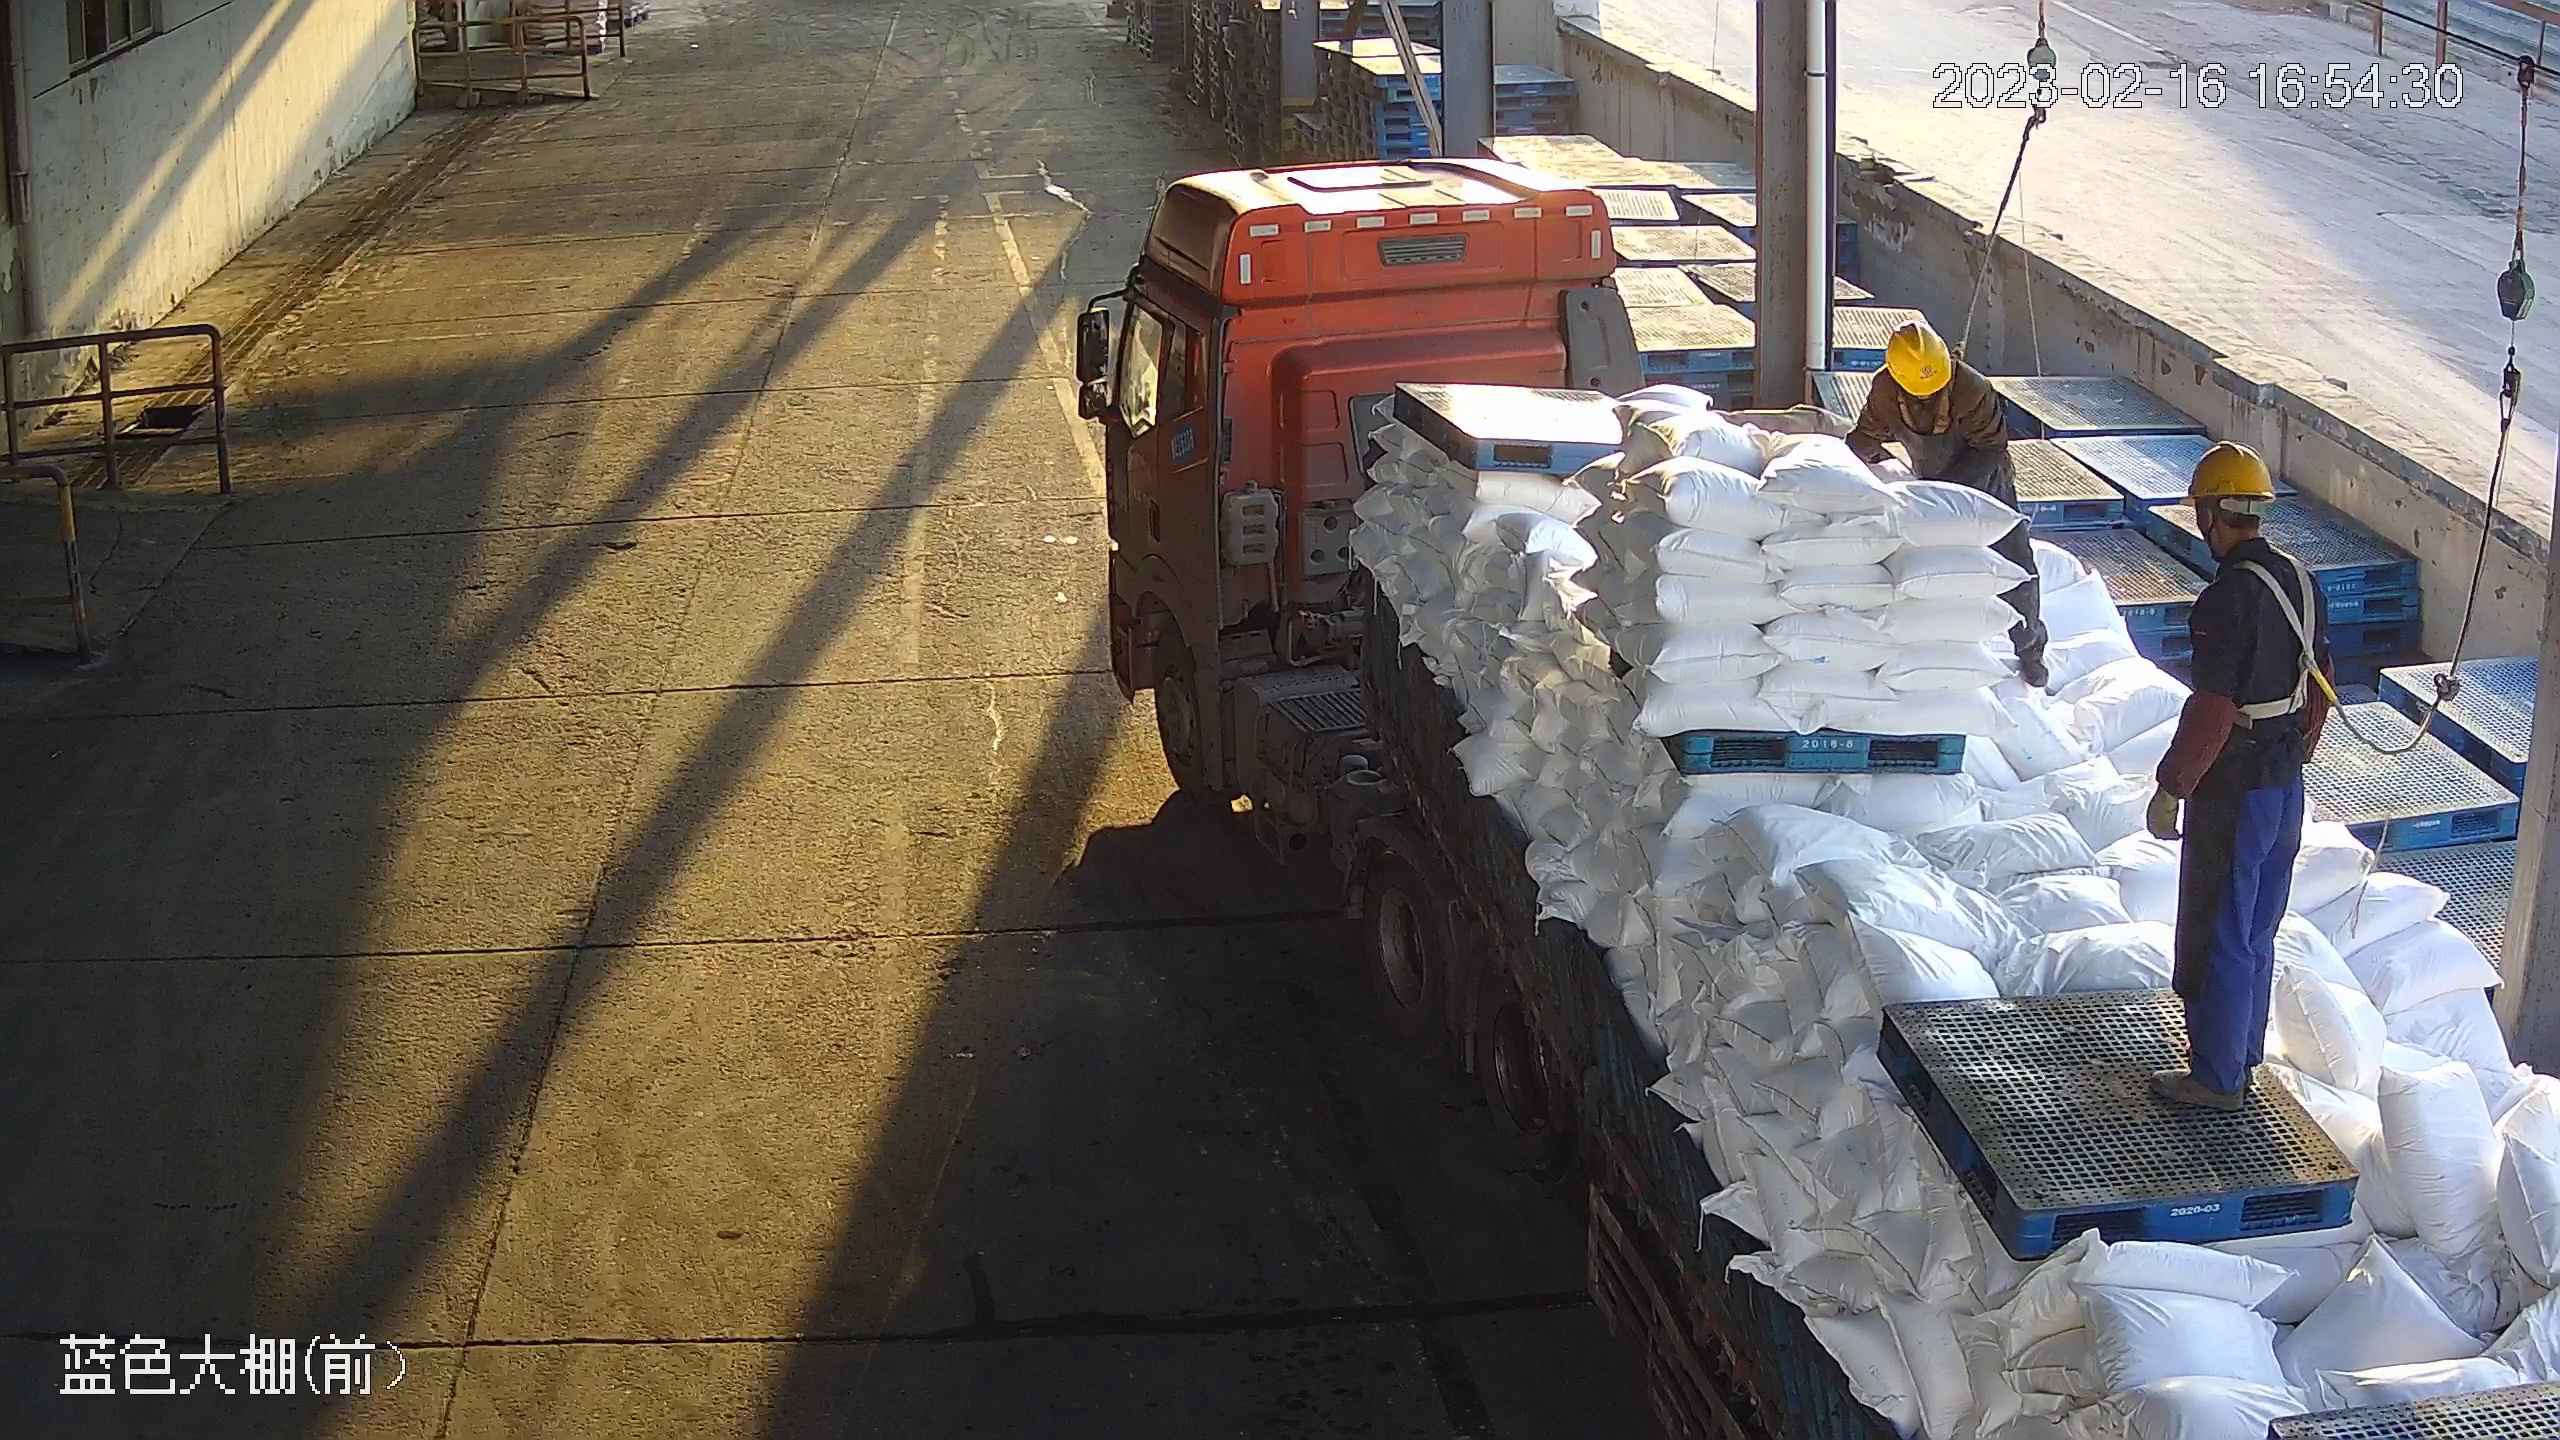belt: (2223, 554, 2339, 725), (1883, 381, 1971, 439)
head: (2149, 442, 2334, 686), (1852, 318, 2015, 481)
helmet: (2181, 445, 2278, 508), (1886, 322, 1954, 401)
people: (2149, 439, 2335, 1118), (1845, 318, 2054, 689)
truck: (1073, 152, 2560, 1440)
